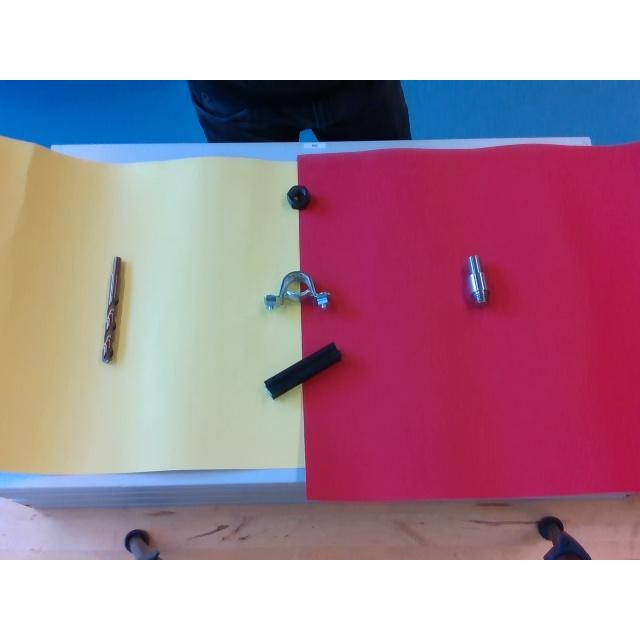Axis2: (467, 254, 487, 302)
Drill: (101, 256, 123, 360)
F20_20_B: (262, 344, 342, 396)
Housing: (264, 270, 328, 308)
M20: (286, 185, 310, 209)
